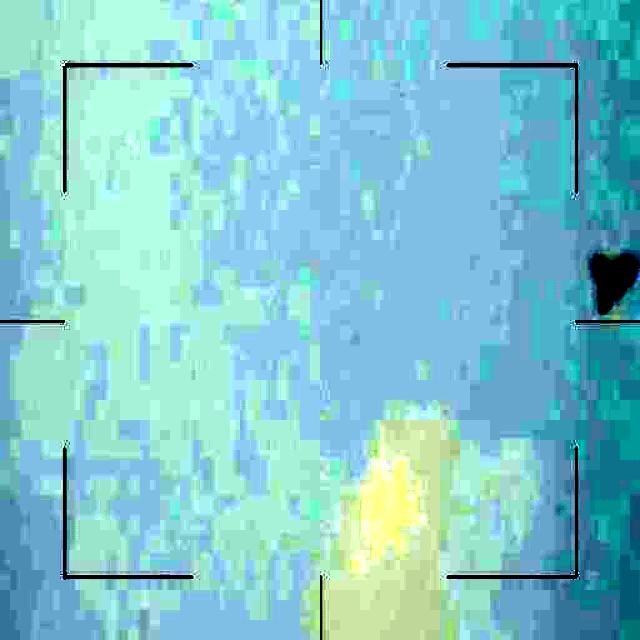bird: (592, 240, 640, 330)
